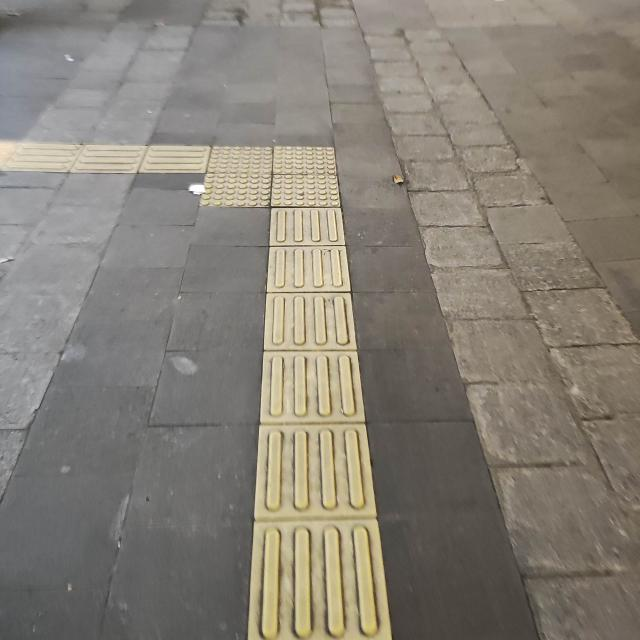kiri: (76, 96, 397, 241)
